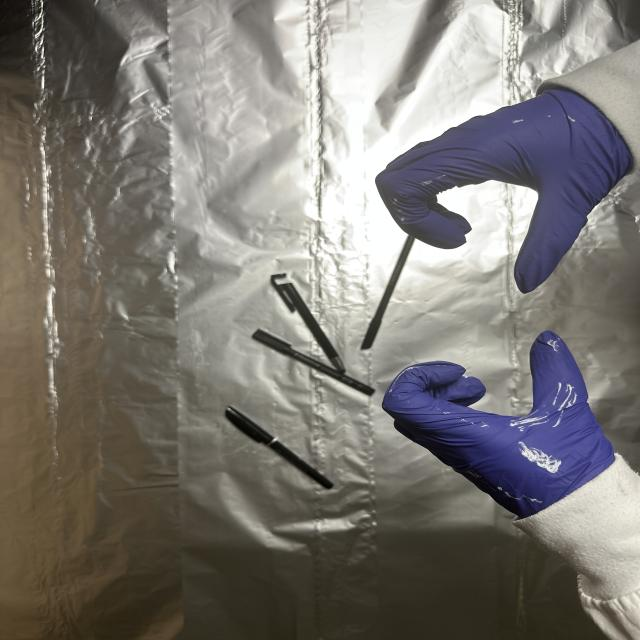gloves_contaminated: (376, 90, 632, 293), (383, 331, 614, 518)
